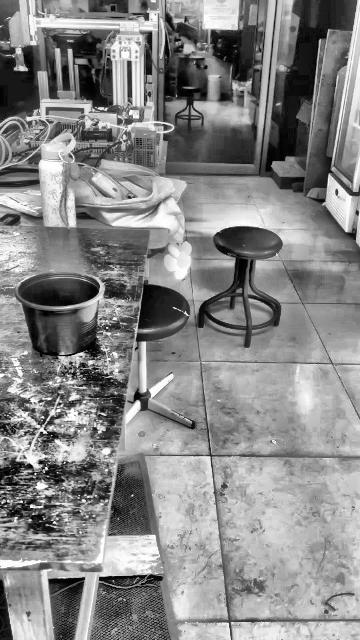pot: (16, 271, 102, 354)
